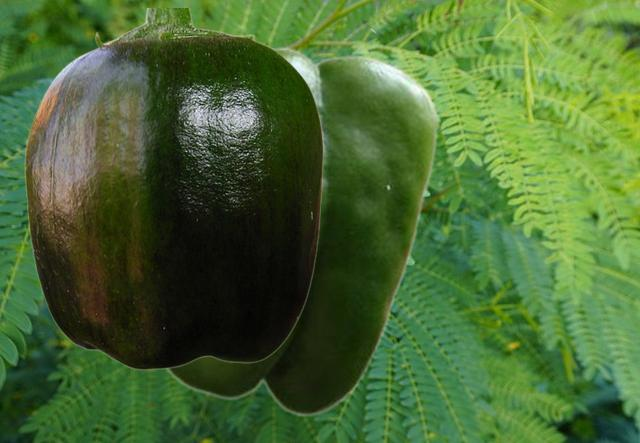bell_pepper: (24, 8, 323, 369), (165, 46, 439, 416)
